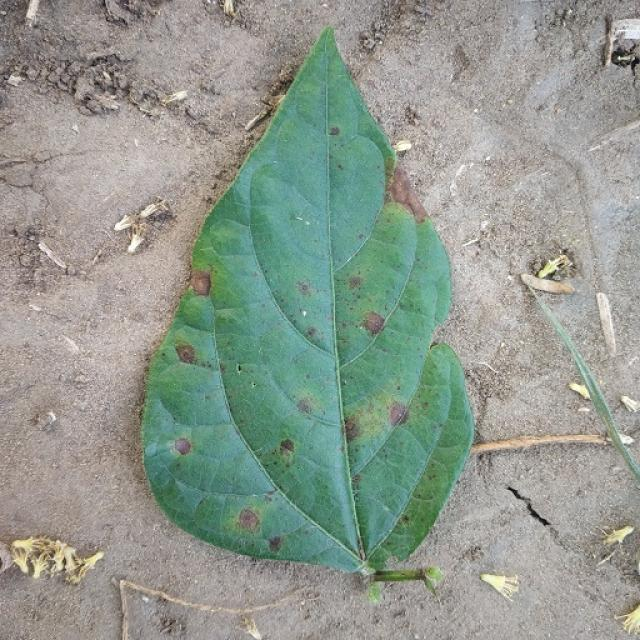Anthracnose: (387, 164, 427, 221), (354, 310, 394, 338), (388, 401, 409, 427), (191, 271, 211, 296), (238, 508, 259, 530), (176, 343, 196, 364), (344, 419, 360, 441), (174, 437, 192, 455), (279, 438, 294, 459), (296, 398, 313, 415), (296, 280, 314, 296), (347, 276, 363, 290), (268, 536, 282, 552), (305, 327, 318, 339), (328, 126, 340, 136), (387, 555, 398, 565), (352, 473, 361, 485), (400, 514, 410, 524), (236, 364, 243, 373)
Blackgram: (142, 29, 472, 574)
